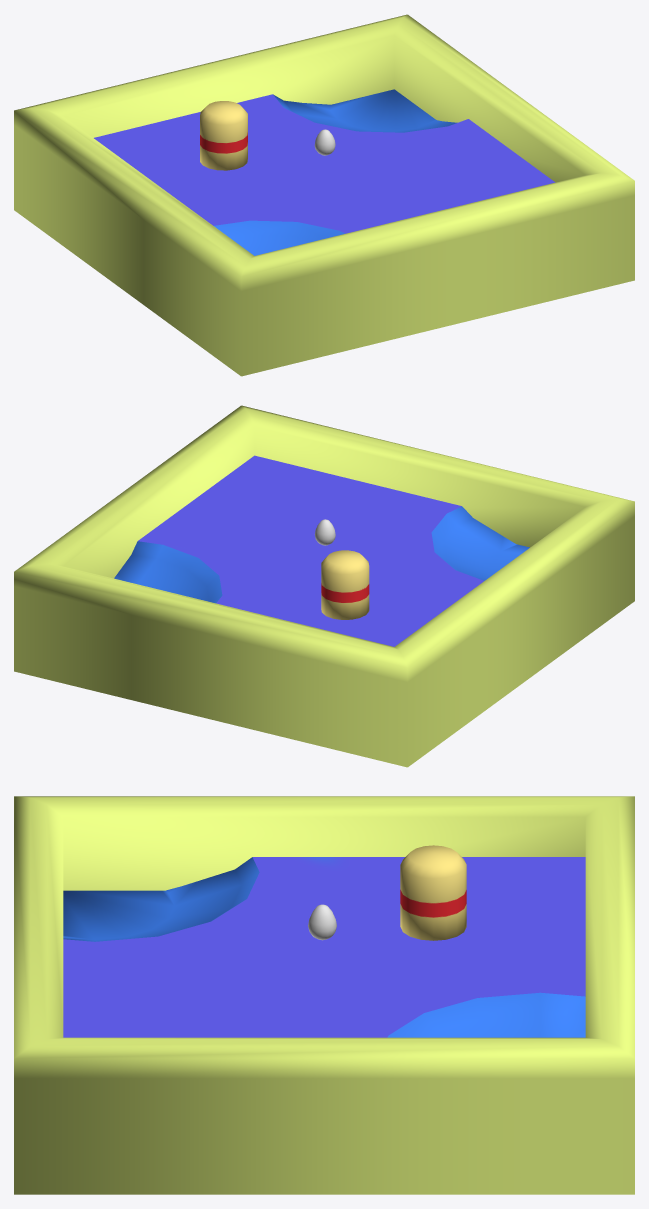
File: Plataforma2.fbx
The picture shows the model from 3 angles, top to bottom: view 1: azimuth 30°, elevation 25°; view 2: azimuth 150°, elevation 25°; view 3: azimuth 270°, elevation 25°; orthographic projection. The views are drawn at different scales.
Visible parts, largest first — view 1: Cube.001, Cube, Cylinder; view 2: Cube.001, Cube, Cylinder; view 3: Cube.001, Cube, Cylinder, Sphere.
Boxes of the visible parts, box(x1,y1,x2,y2) form: Cube.001: box(14, 14, 634, 376); Cube: box(94, 89, 555, 255); Cylinder: box(200, 101, 247, 170); Cube.001: box(14, 405, 634, 767); Cube: box(114, 455, 529, 646); Cylinder: box(321, 550, 369, 619); Cube.001: box(14, 796, 634, 1194); Cube: box(63, 857, 585, 1037); Cylinder: box(400, 845, 466, 940); Sphere: box(308, 904, 336, 940).
Bounding box in the file's own units: 4288 × 1327 × 4288.
